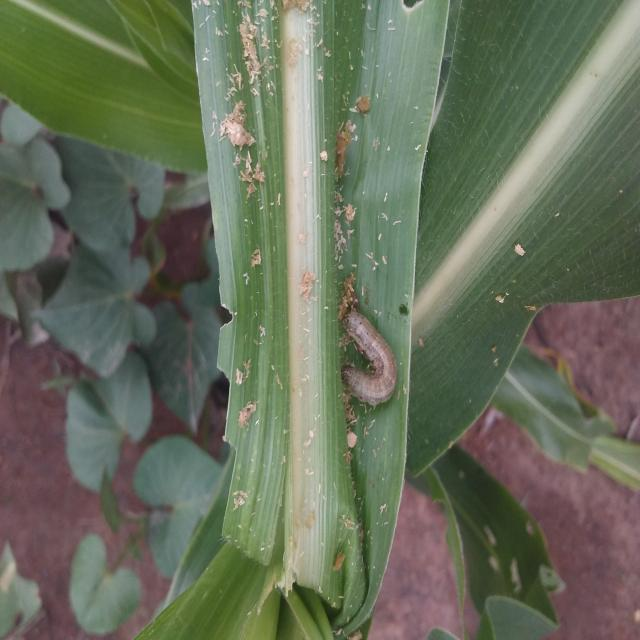yellow-stem-borer-larva: (319, 293, 418, 417)
